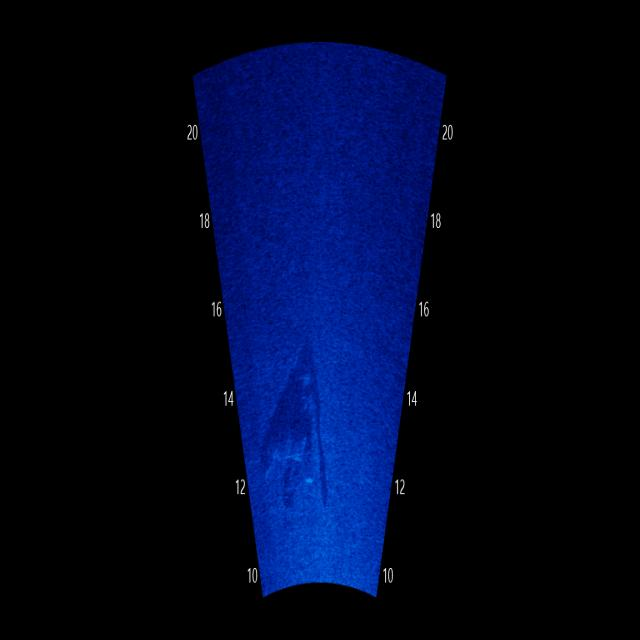triangle: (259, 340, 336, 513)
